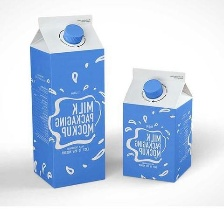carton: (14, 6, 108, 193), (119, 63, 194, 187)
